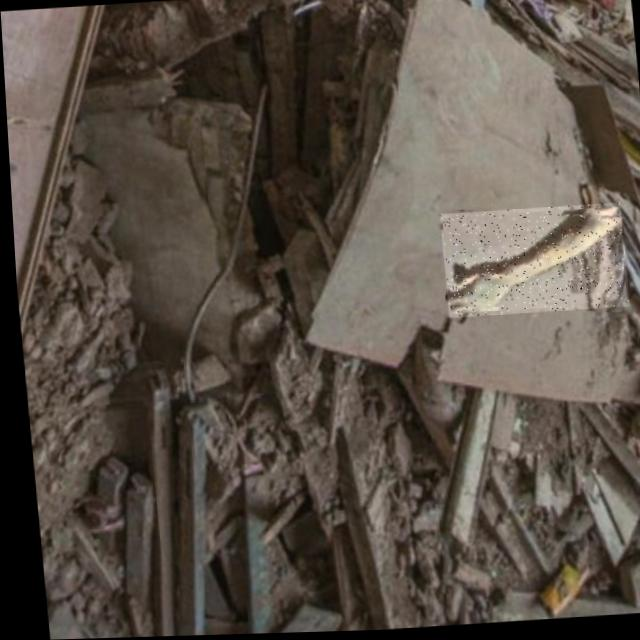Person in Rubble: (435, 206, 625, 320)
